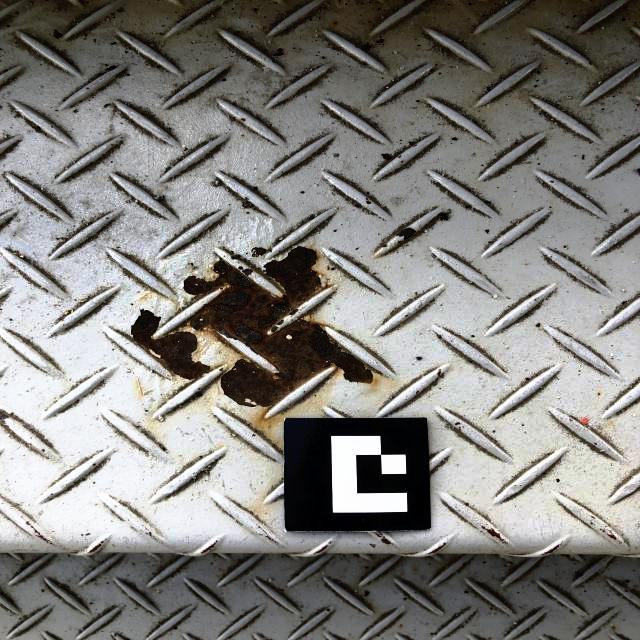Corrosion: (180, 243, 378, 411), (127, 305, 219, 380), (392, 226, 422, 242)
